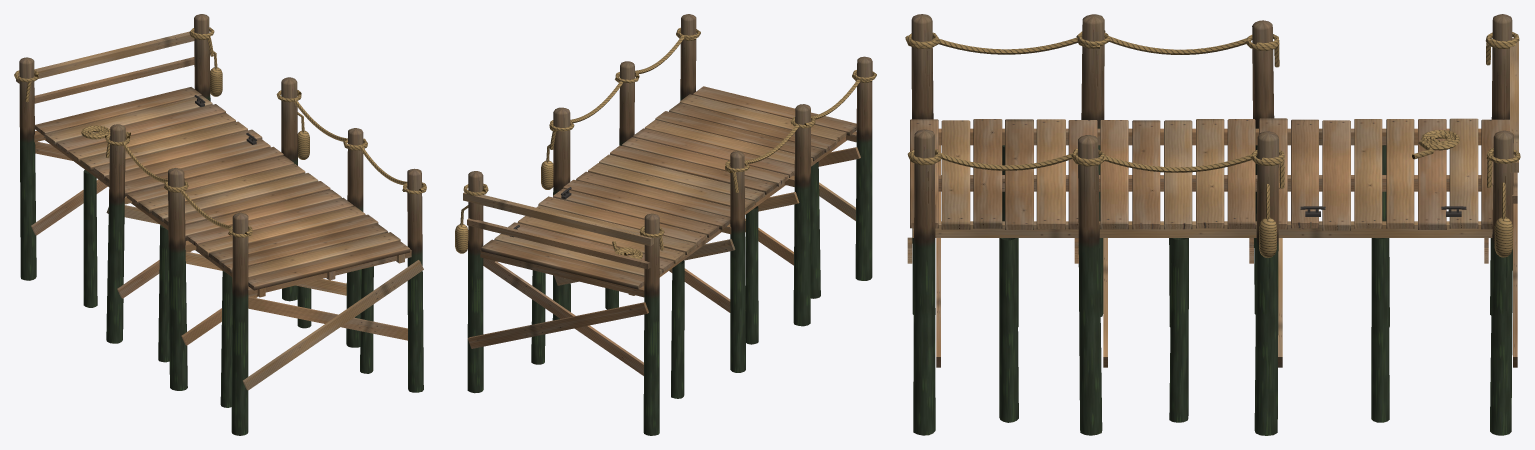
The model's file is pier.glb.
The picture shows the model from 3 angles, left to right: view 1: azimuth 30°, elevation 25°; view 2: azimuth 150°, elevation 25°; view 3: azimuth 270°, elevation 25°; orthographic projection. The views are drawn at different scales.
Visible parts, largest first — view 1: pier; view 2: pier; view 3: pier.
Part boxes in pixels (x1,y1,x2,y2): pier: [14, 14, 426, 435]; pier: [455, 14, 876, 435]; pier: [905, 14, 1520, 435].
Bounding box in the file's own units: 2.51 × 2.53 × 4.72.
4 materials, 3 textured.
